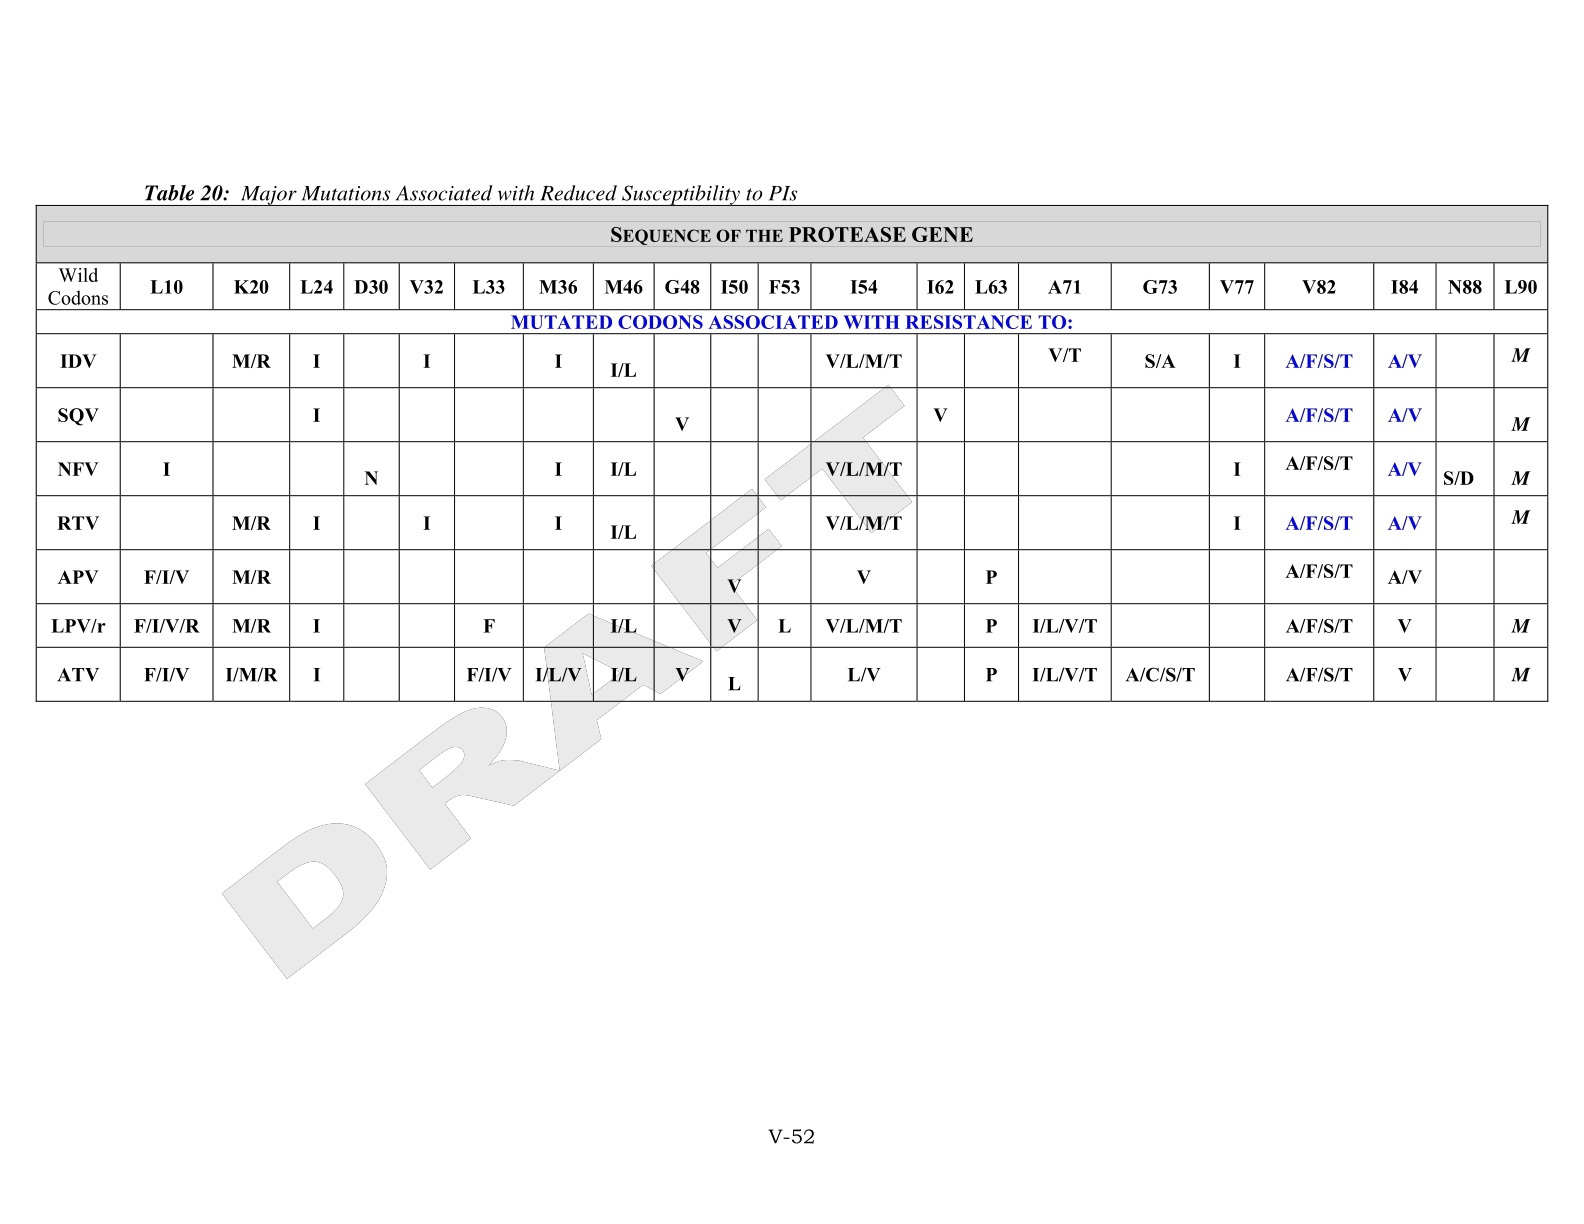merged_cells: (35, 203, 1549, 702)
